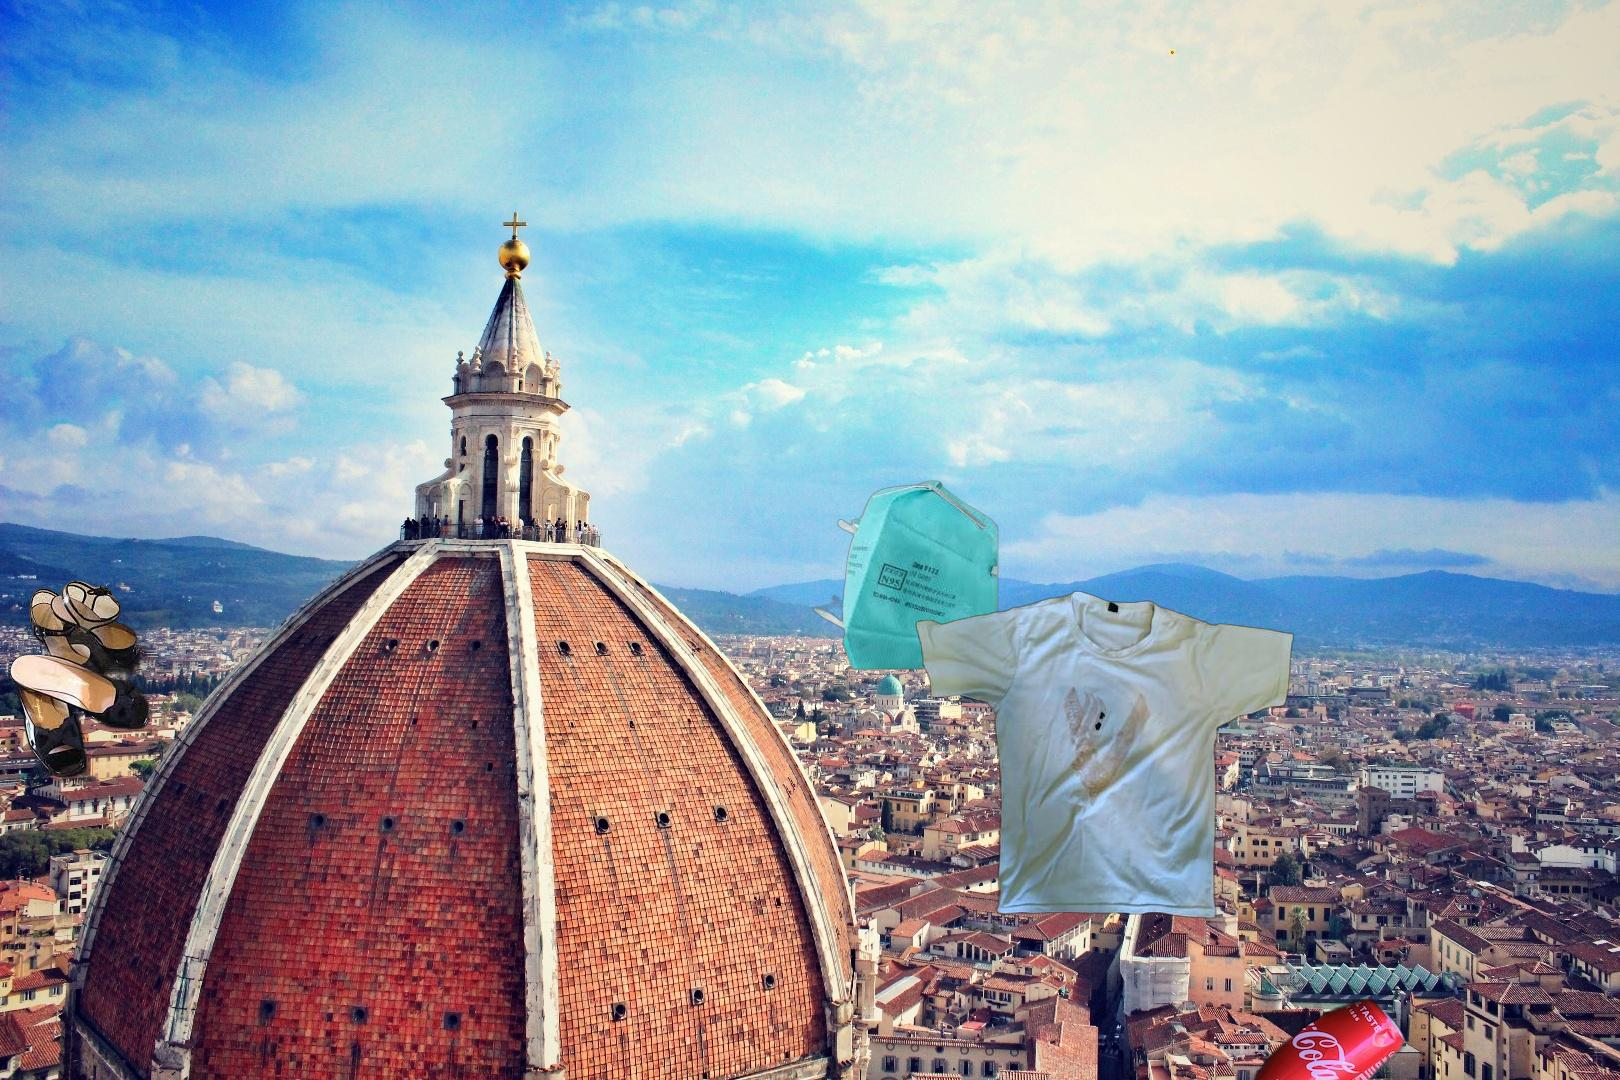clothes: (912, 587, 1298, 922)
metal-cans: (1249, 992, 1411, 1080)
shoes: (6, 577, 176, 781)
trash: (811, 479, 1000, 670)
